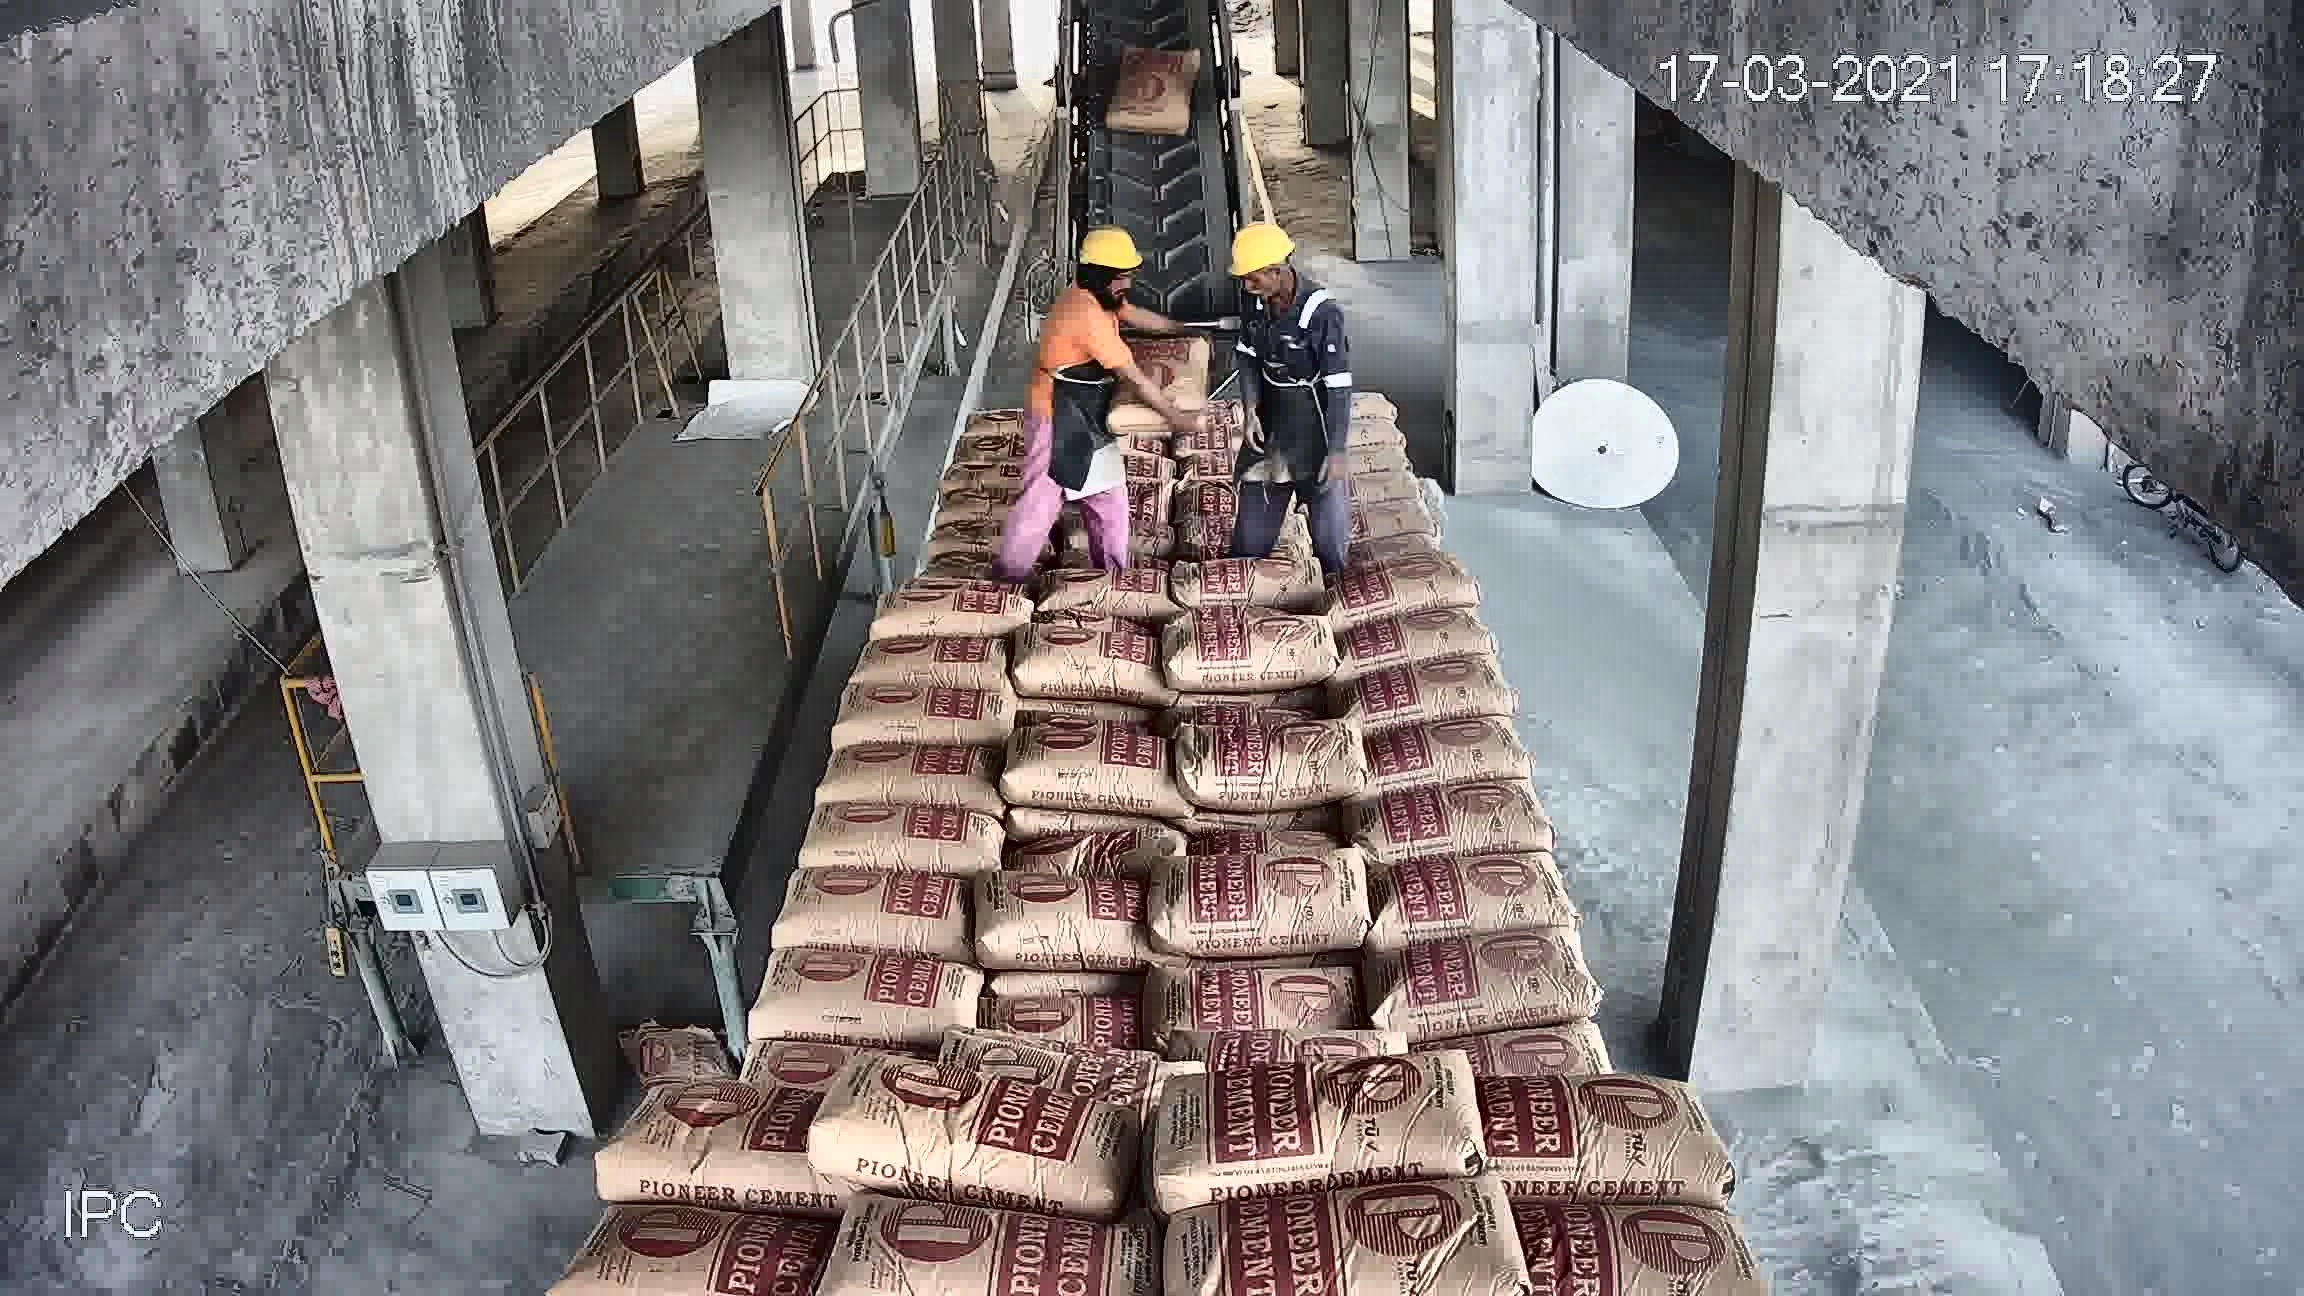bag: (1117, 335, 1211, 440), (1108, 51, 1203, 135)
bag_h: (1133, 1040, 1495, 1188), (801, 1063, 1119, 1204), (1483, 1065, 1730, 1201), (1362, 923, 1616, 1051), (1135, 832, 1372, 956), (592, 1074, 810, 1198), (734, 855, 980, 962), (745, 945, 976, 1052), (961, 859, 1158, 970), (1381, 843, 1578, 942), (1347, 707, 1544, 804), (953, 994, 1176, 1076), (1169, 720, 1378, 807), (782, 805, 1014, 881), (1152, 956, 1369, 1035), (1446, 1003, 1636, 1087), (1369, 777, 1551, 862), (997, 728, 1171, 817), (1010, 809, 1192, 892), (805, 741, 987, 823), (1165, 614, 1324, 703), (1328, 595, 1499, 676), (997, 617, 1165, 696), (1177, 1021, 1427, 1071), (837, 628, 1017, 698), (1348, 666, 1525, 736), (965, 981, 1147, 1048), (820, 685, 1010, 747), (1176, 546, 1320, 623), (872, 576, 1033, 642), (1323, 551, 1473, 622), (1041, 552, 1174, 628), (1318, 506, 1438, 540), (937, 483, 1032, 524), (938, 430, 1013, 475), (938, 402, 1025, 438), (911, 517, 997, 552)
belt: (1062, 9, 1253, 396)
